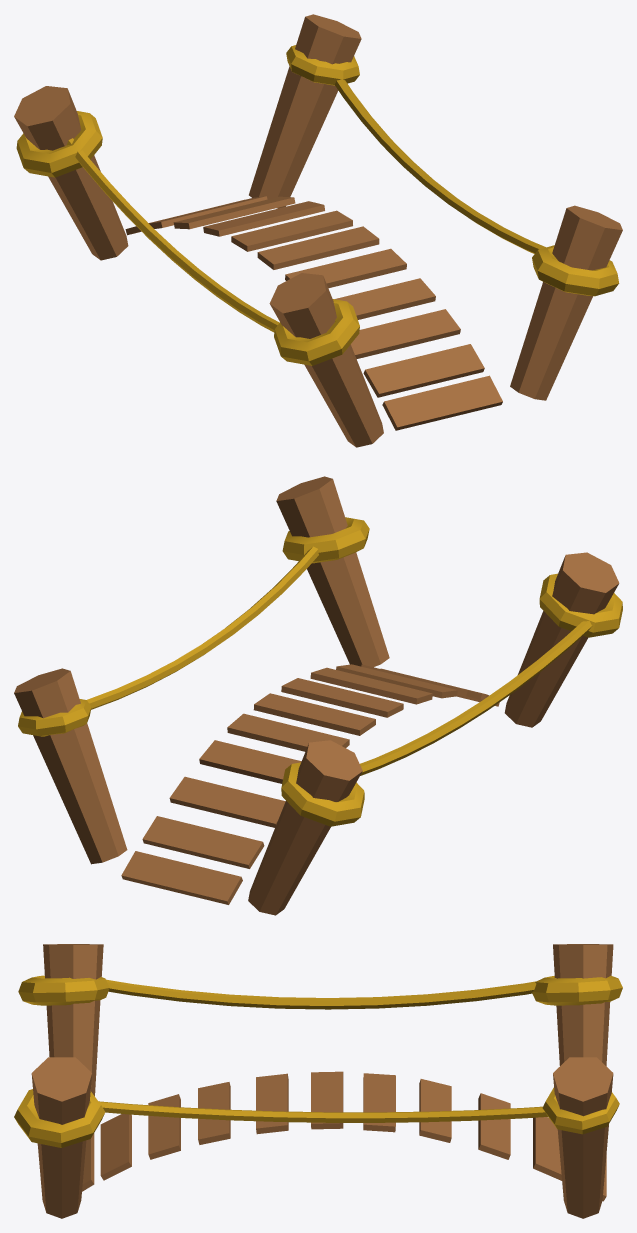
Rendered from Bridge.fbx.
3 views of the same model, one above another, from view 1: azimuth 30°, elevation 25°; view 2: azimuth 150°, elevation 25°; view 3: azimuth 270°, elevation 25° (orthographic).
Parts seen in each view (by area): view 1: Bridge; view 2: Bridge; view 3: Bridge.
Boxes of the visible parts, box(x1,y1,x2,y2) form: Bridge: box(14, 14, 622, 447); Bridge: box(14, 476, 622, 915); Bridge: box(14, 944, 622, 1218).
Bounding box in the file's own units: 1258 × 650 × 1963.
